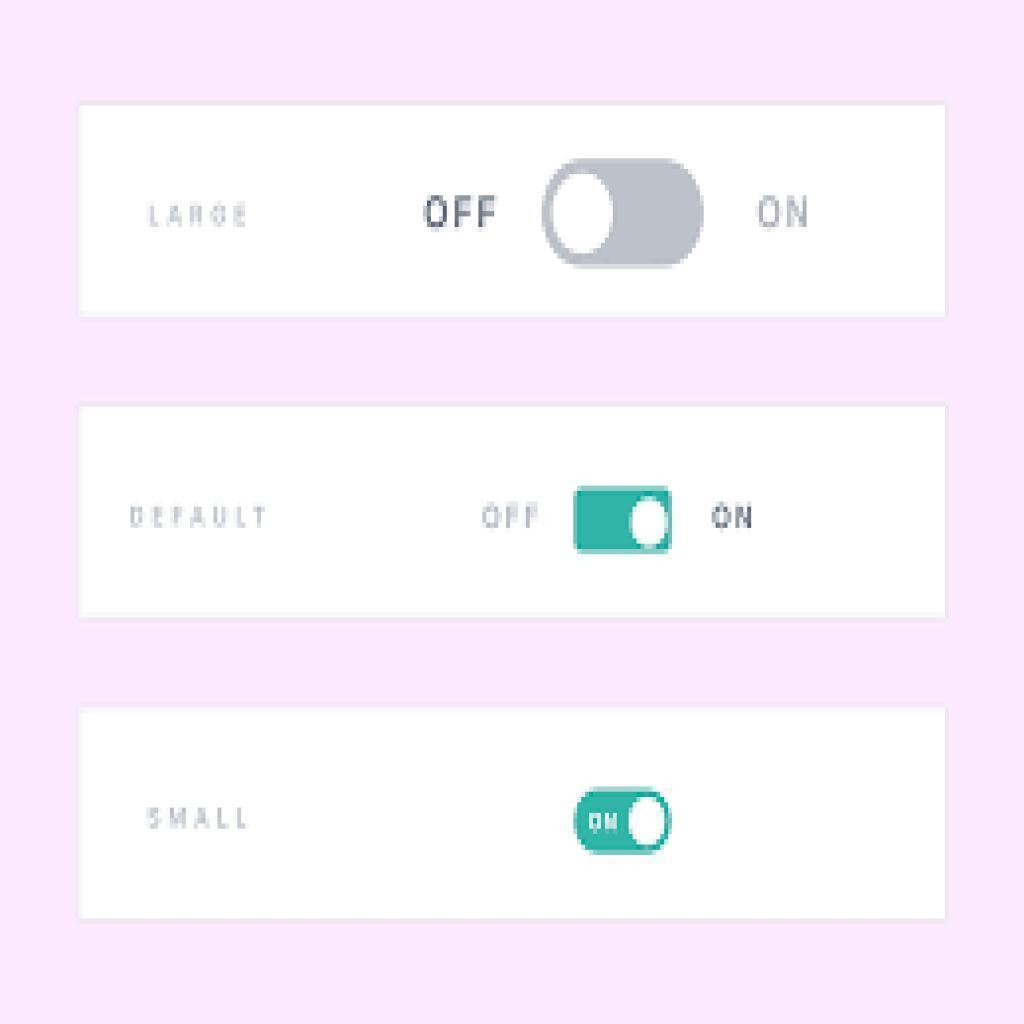switch: (544, 158, 703, 268), (573, 785, 676, 860), (572, 487, 674, 552)
